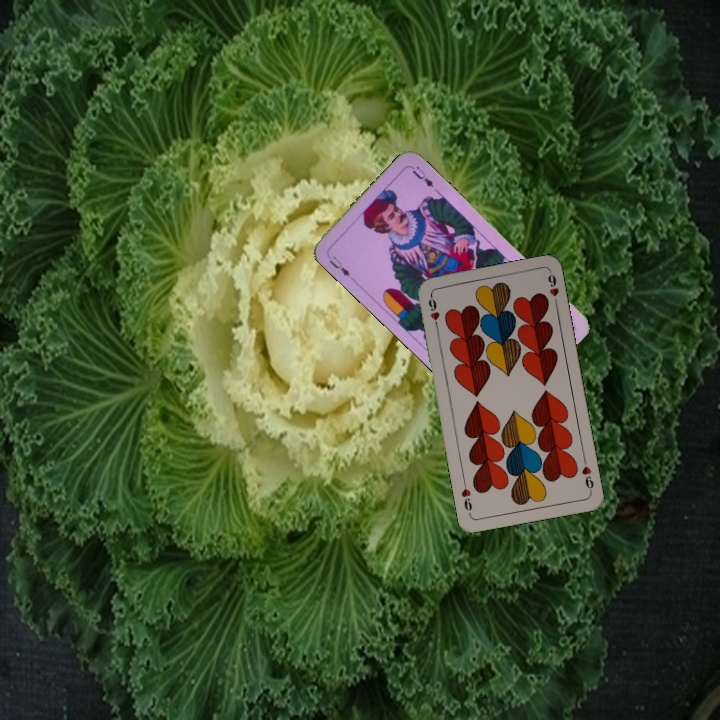EU: (325, 252, 356, 282)
H9: (578, 454, 596, 495), (424, 291, 442, 331)
